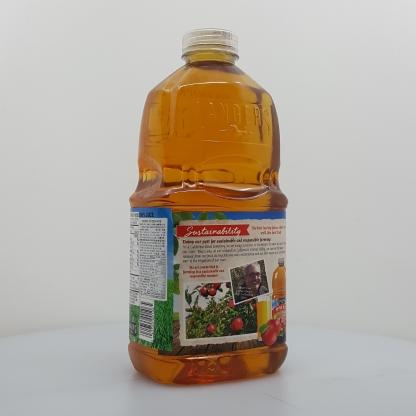-------------: (128, 28, 288, 385)
